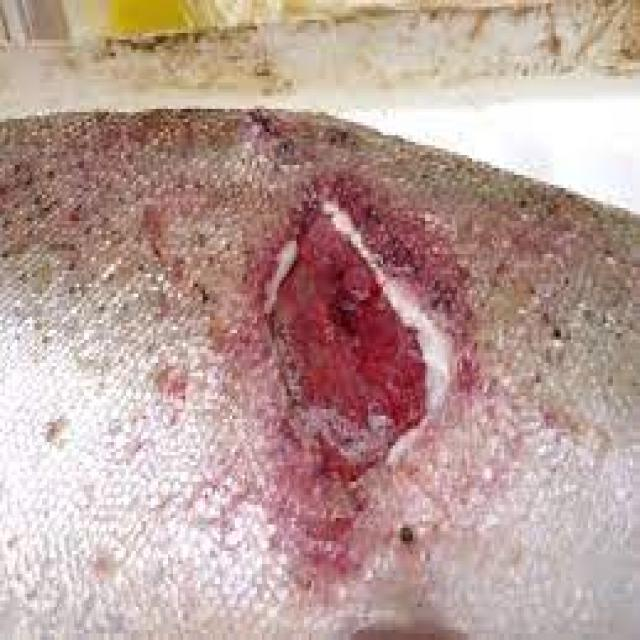EUS Disease: (0, 112, 639, 640), (87, 114, 535, 635)
